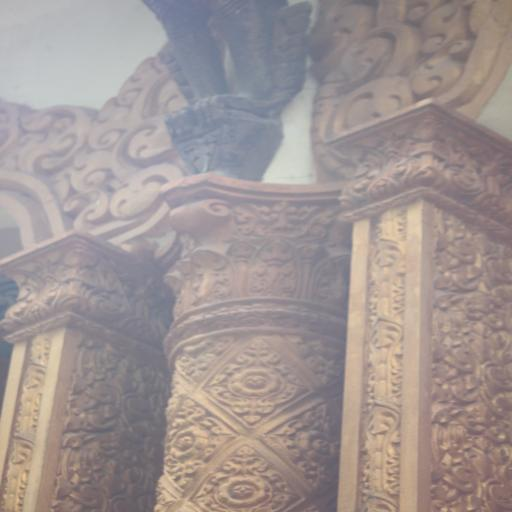hoa: (190, 344, 316, 426), (201, 448, 297, 512), (282, 409, 346, 476), (170, 400, 224, 475)
la: (438, 383, 512, 505), (436, 287, 512, 380), (61, 429, 145, 512), (72, 352, 151, 430), (441, 225, 512, 292), (362, 237, 410, 319), (360, 406, 402, 490), (366, 319, 408, 402), (243, 235, 300, 294), (188, 246, 235, 300), (0, 439, 34, 512), (11, 368, 49, 433), (447, 159, 481, 197), (90, 290, 126, 322), (410, 159, 444, 189), (126, 318, 162, 341), (56, 287, 86, 313), (369, 177, 395, 201), (21, 299, 45, 320)
lua: (316, 0, 494, 120), (0, 100, 167, 220)
